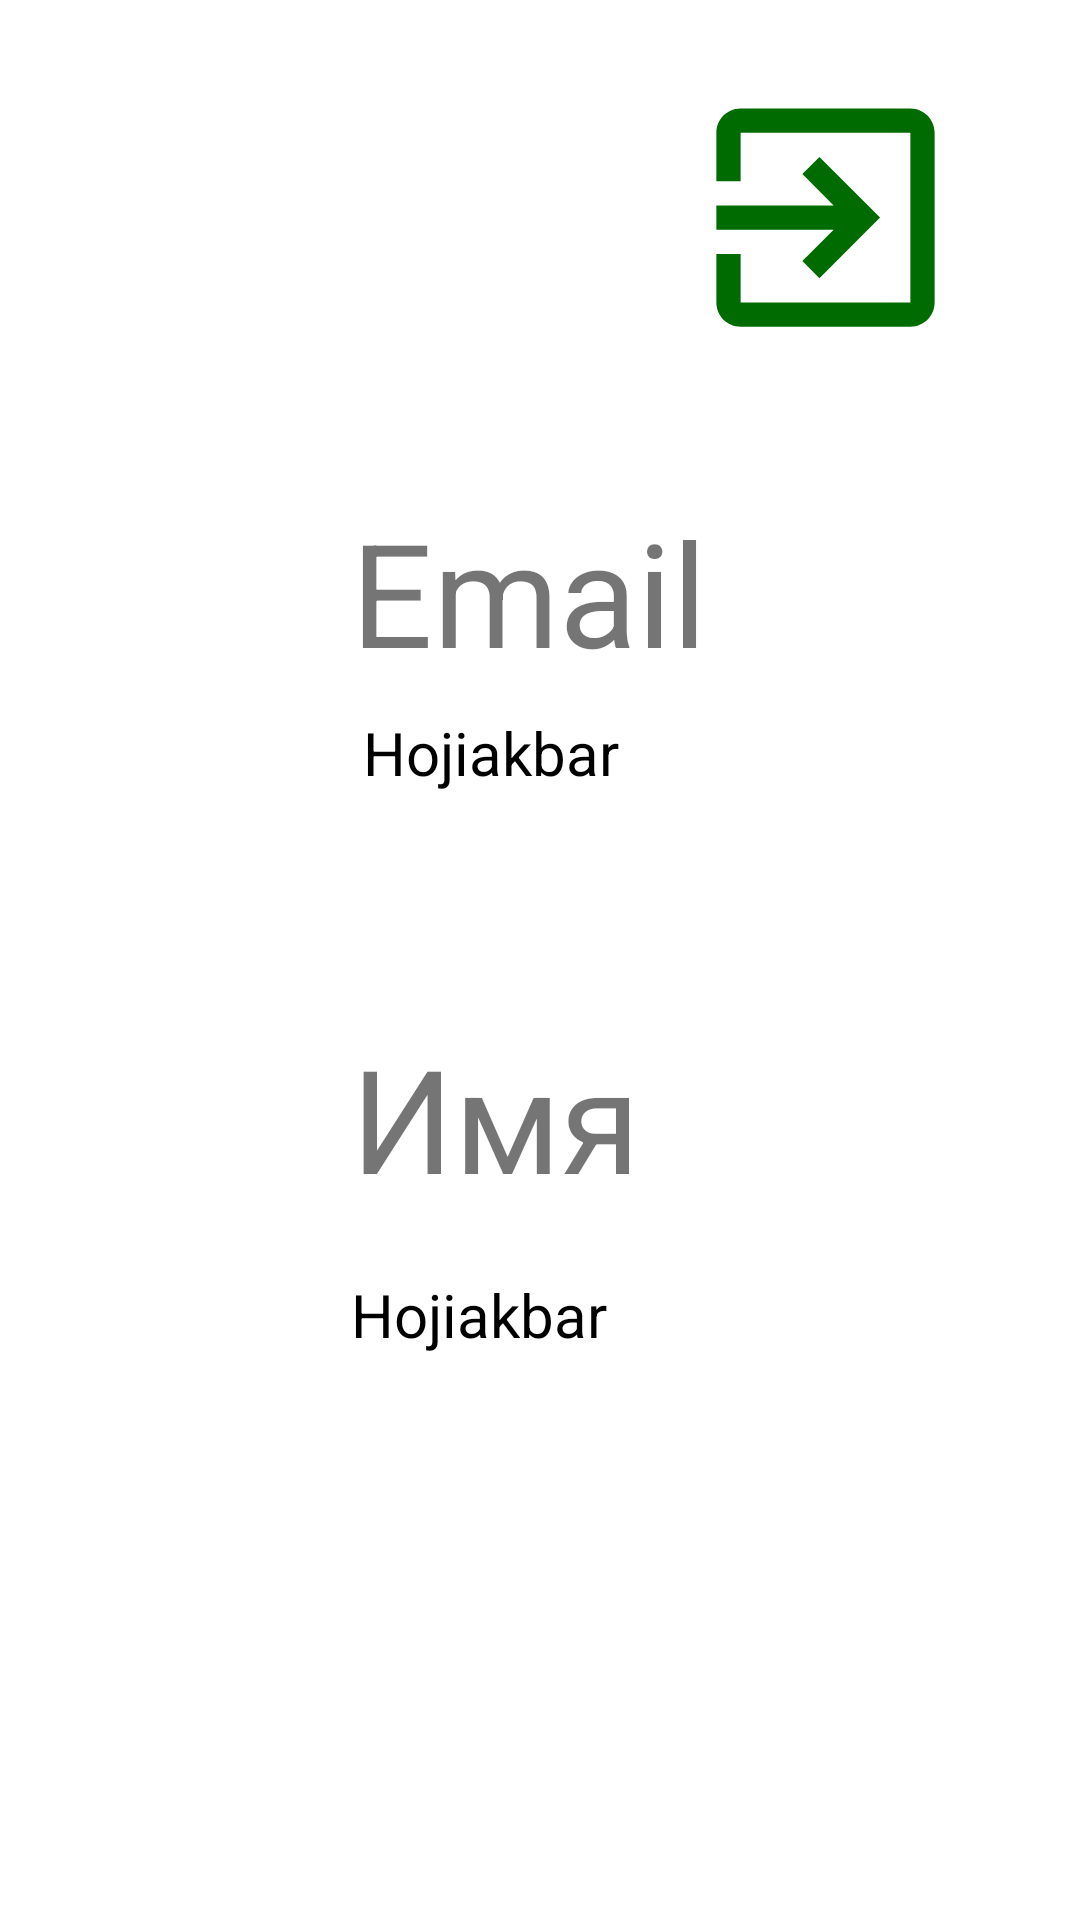

Point at icon controls on the screen. Image size 1080w x 1920h, points as (x=x, y=y).
exit: (x=825, y=217)
